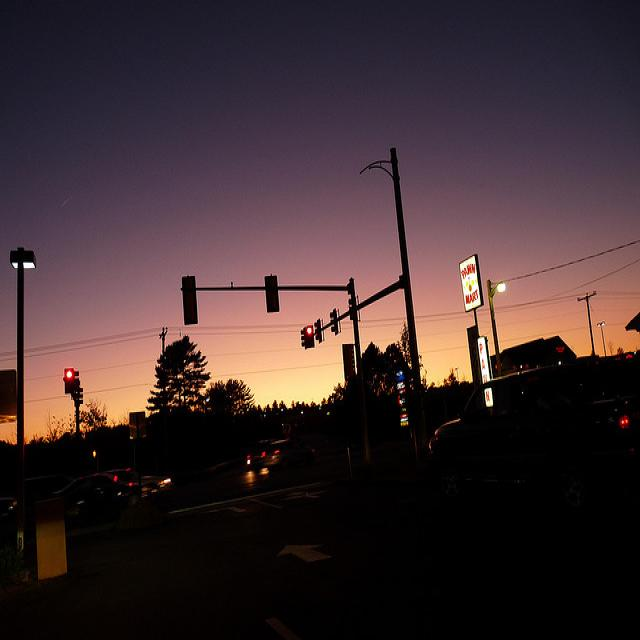Vehicle: (56, 476, 144, 528), (96, 468, 178, 508), (426, 415, 473, 458), (264, 440, 316, 469), (246, 440, 282, 467)
